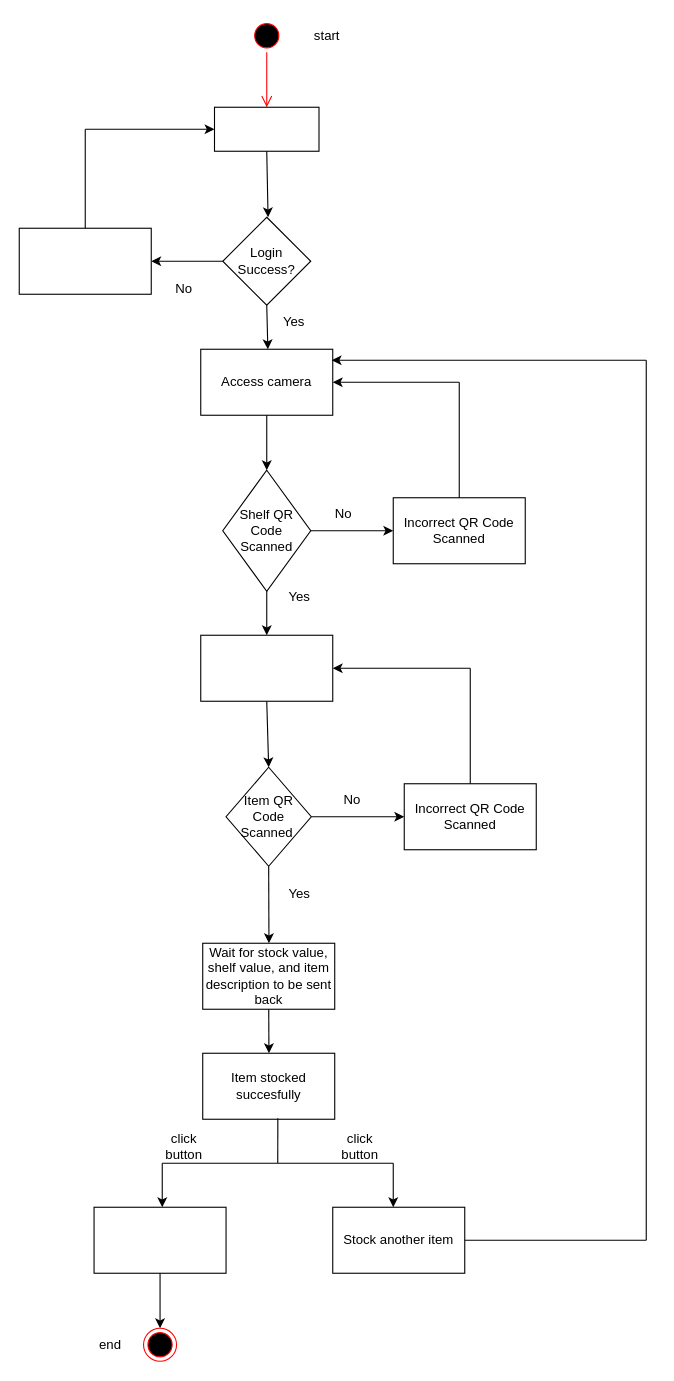
Image size: 674x1381. Some labels were removed from this diagram. Each missing label, with the centre of its shape:
Go to device page: the point at 266,667
Invalid login/password: the point at 84,260
Login: the point at 266,128
Logout: the point at 159,1239
